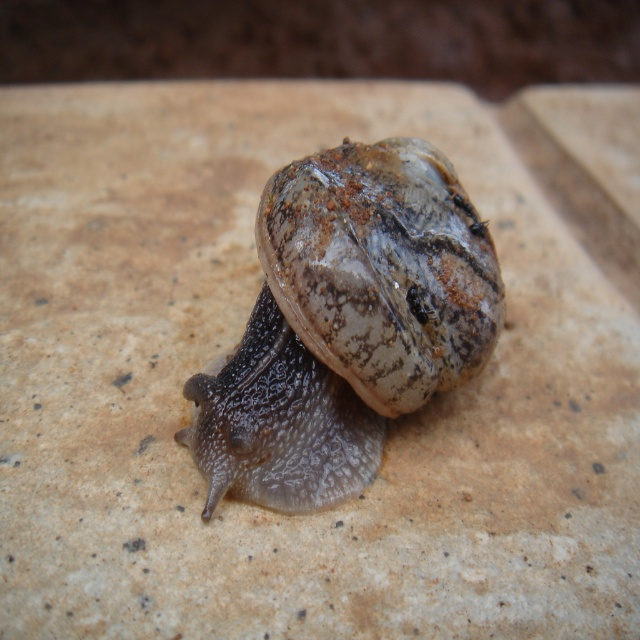Snail: (171, 132, 508, 519)
